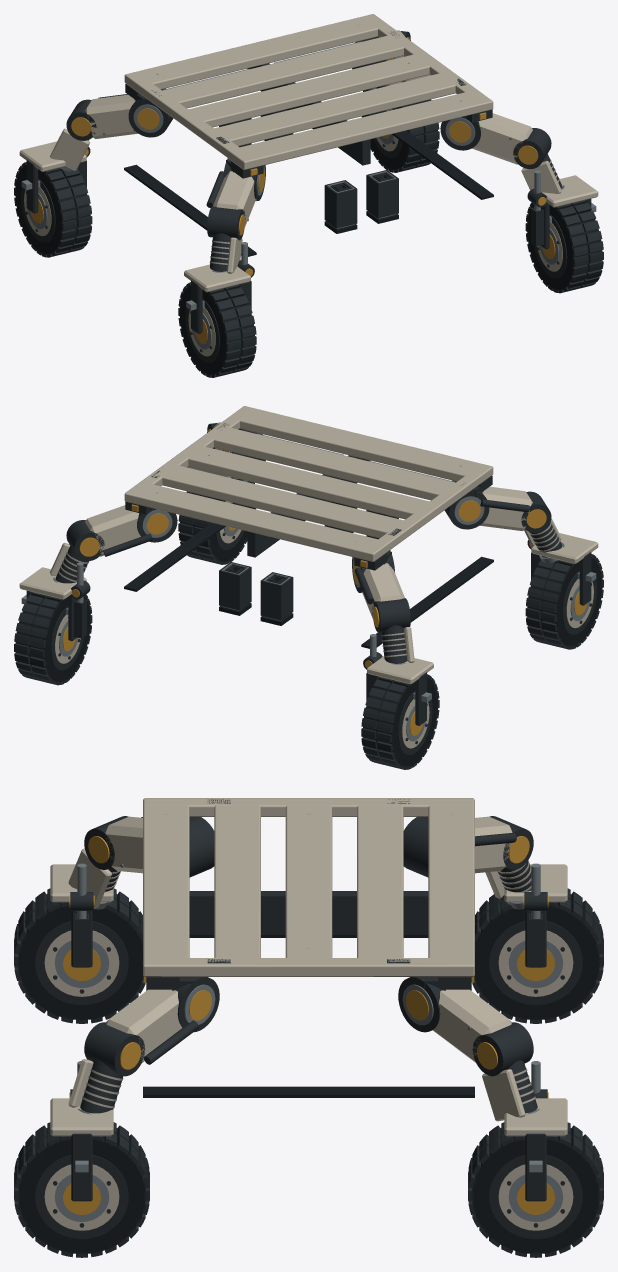
The model's file is stride02_deployed_d0_lod0.glb.
3 views of the same model, one above another, from view 1: azimuth 30°, elevation 25°; view 2: azimuth 150°, elevation 25°; view 3: azimuth 270°, elevation 25° (orthographic). The views are drawn at different scales.
Parts seen in each view (by area): view 1: PALLET_SURFACE, WHEEL_FL_SURFACE, WHEEL_RL_SURFACE, WHEEL_FR_SURFACE, LEG_RL_UPPER_SURFACE, LEG_FR_UPPER_SURFACE, LEG_FL_LOWER_SURFACE, WHEEL_RR_SURFACE, LEG_FL_UPPER_SURFACE, LEG_FR_LOWER_SURFACE, LEG_RL_LOWER_SURFACE, LEG_FL_UPRIGHT_SURFACE (+2 smaller); view 2: PALLET_SURFACE, WHEEL_RL_SURFACE, WHEEL_FL_SURFACE, WHEEL_RR_SURFACE, LEG_RR_UPPER_SURFACE, LEG_FL_UPPER_SURFACE, LEG_RL_LOWER_SURFACE, WHEEL_FR_SURFACE, LEG_RR_LOWER_SURFACE, LEG_RL_UPRIGHT_SURFACE, LEG_RL_UPPER_SURFACE, LEG_FL_LOWER_SURFACE (+2 smaller); view 3: PALLET_SURFACE, WHEEL_FR_SURFACE, WHEEL_RR_SURFACE, WHEEL_FL_SURFACE, WHEEL_RL_SURFACE, LEG_FR_UPPER_SURFACE, LEG_RR_UPPER_SURFACE, LEG_RR_LOWER_SURFACE, LEG_FR_LOWER_SURFACE, LEG_RR_UPRIGHT_SURFACE, LEG_FR_UPRIGHT_SURFACE, LEG_RL_UPPER_SURFACE (+7 smaller).
Part boxes in pixels (x1,y1,x2,y2): PALLET_SURFACE: [124, 14, 493, 256]; WHEEL_FL_SURFACE: [178, 282, 256, 377]; WHEEL_RL_SURFACE: [14, 162, 92, 257]; WHEEL_FR_SURFACE: [525, 200, 603, 293]; LEG_RL_UPPER_SURFACE: [85, 88, 173, 138]; LEG_FR_UPPER_SURFACE: [440, 113, 532, 164]; LEG_FL_LOWER_SURFACE: [207, 206, 245, 273]; WHEEL_RR_SURFACE: [361, 90, 439, 172]; LEG_FL_UPPER_SURFACE: [206, 158, 265, 228]; LEG_FR_LOWER_SURFACE: [513, 128, 564, 193]; LEG_RL_LOWER_SURFACE: [50, 99, 96, 171]; LEG_FL_UPRIGHT_SURFACE: [184, 264, 250, 333]; PALLET_SURFACE: [124, 406, 493, 648]; WHEEL_RL_SURFACE: [361, 674, 439, 769]; WHEEL_FL_SURFACE: [525, 554, 603, 649]; WHEEL_RR_SURFACE: [14, 592, 92, 685]; LEG_RR_UPPER_SURFACE: [85, 505, 177, 556]; LEG_FL_UPPER_SURFACE: [444, 480, 532, 530]; LEG_RL_LOWER_SURFACE: [372, 598, 414, 664]; WHEEL_FR_SURFACE: [178, 482, 256, 564]; LEG_RR_LOWER_SURFACE: [50, 520, 104, 583]; LEG_RL_UPRIGHT_SURFACE: [367, 656, 433, 725]; LEG_RL_UPPER_SURFACE: [352, 550, 404, 620]; LEG_FL_LOWER_SURFACE: [521, 491, 564, 563]; PALLET_SURFACE: [143, 798, 474, 1097]; WHEEL_FR_SURFACE: [14, 1122, 149, 1257]; WHEEL_RR_SURFACE: [468, 1122, 603, 1257]; WHEEL_FL_SURFACE: [14, 888, 145, 1023]; WHEEL_RL_SURFACE: [472, 888, 603, 1023]; LEG_FR_UPPER_SURFACE: [105, 977, 219, 1064]; LEG_RR_UPPER_SURFACE: [398, 977, 512, 1062]; LEG_RR_LOWER_SURFACE: [472, 1022, 539, 1121]; LEG_FR_LOWER_SURFACE: [68, 1022, 145, 1114]; LEG_RR_UPRIGHT_SURFACE: [504, 1098, 567, 1201]; LEG_FR_UPRIGHT_SURFACE: [50, 1098, 113, 1201]; LEG_RL_UPPER_SURFACE: [403, 816, 516, 877].
Size of the model in its own units: 1.95 by 0.83 by 1.78.
